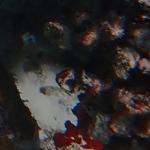dead: (5, 2, 146, 148)
